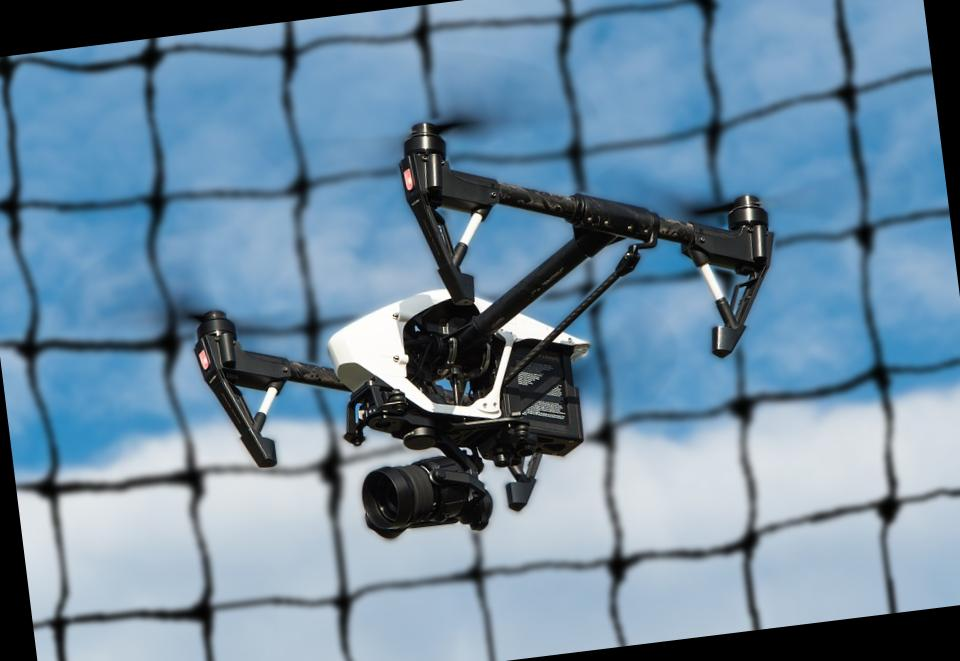drone: (112, 64, 820, 552)
